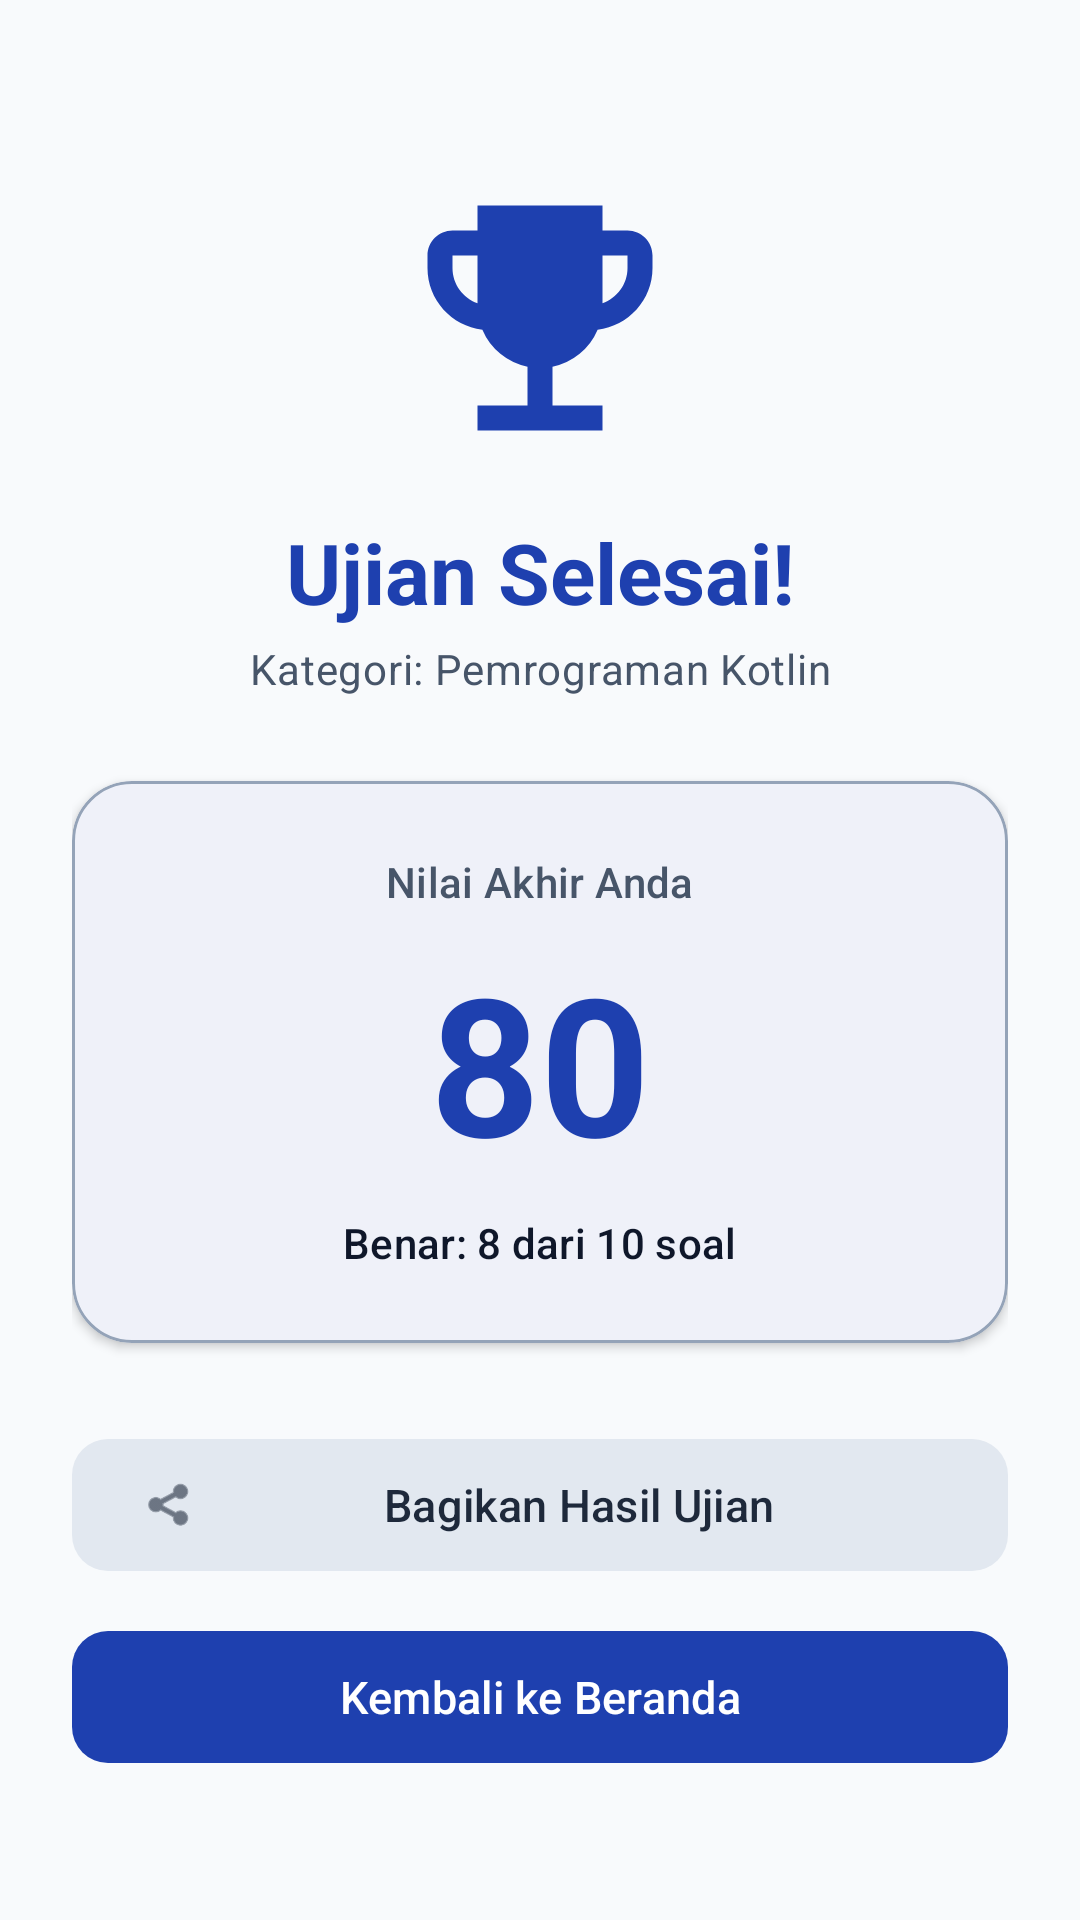

Where icons sit on this 1080 x 1920 app screen, as (x1, y1, x2, y2):
Hasil Ujian: (427, 205, 653, 431)
